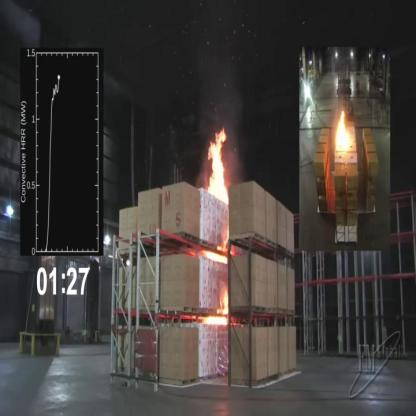fire: (202, 121, 232, 208), (223, 226, 231, 258), (222, 289, 229, 318)
